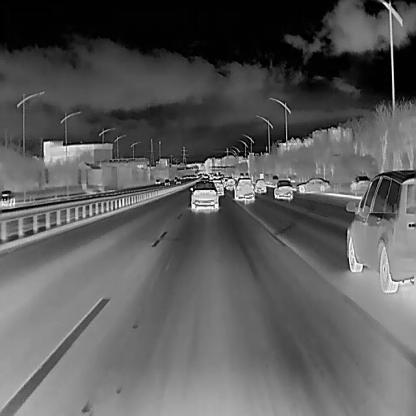car: (344, 168, 415, 292), (188, 180, 218, 213), (295, 176, 330, 193), (233, 176, 255, 203), (348, 172, 373, 190), (272, 179, 292, 200), (0, 188, 14, 207), (209, 179, 224, 196), (252, 177, 267, 193), (224, 178, 235, 191), (162, 178, 171, 185), (154, 178, 160, 184), (175, 178, 181, 184), (173, 176, 177, 181)
